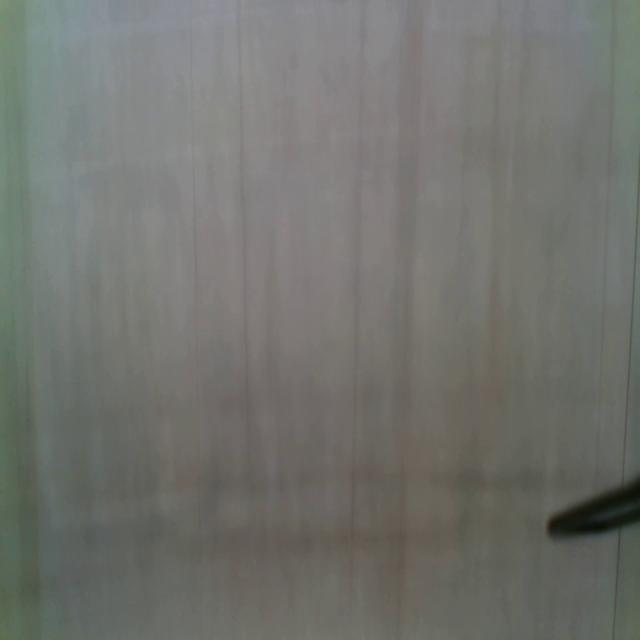color bleeding: (18, 456, 543, 560)
crease: (594, 0, 617, 460), (348, 0, 367, 533), (236, 1, 254, 453), (622, 163, 640, 468), (188, 5, 200, 359), (610, 530, 623, 640)
